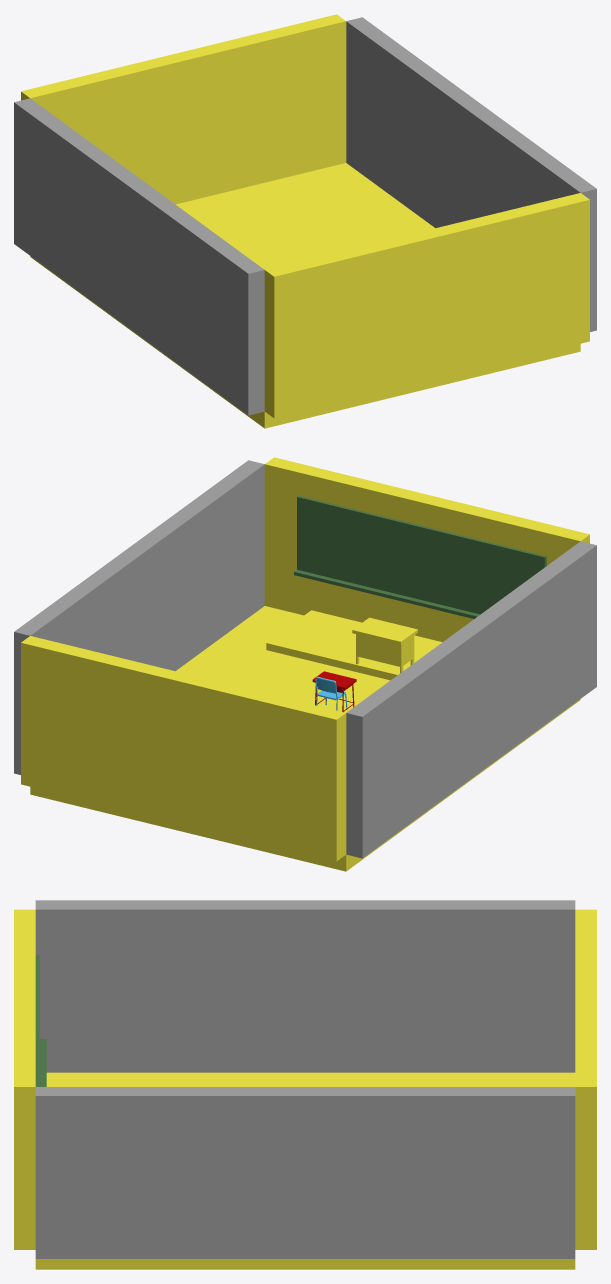
The model's file is gamejam.kyositu.fbx.
3 renders of one model, top to bottom at view 1: azimuth 30°, elevation 25°; view 2: azimuth 150°, elevation 25°; view 3: azimuth 270°, elevation 25°, orthographic. The views are drawn at different scales.
Visible parts, largest first — view 1: pCube25, pCube24, pCube28, pCube27, yuka; view 2: pCube28, pCube24, pCube27, pCube25, pCube11, yuka, kyodan, kyotaku, pCube26; view 3: pCube27, pCube24, yuka, pCube25, pCube28, pCube11.
Boxes of the visible parts, <box> form: pCube25: <box>264,193,589,418</box>; pCube24: <box>14,98,264,415</box>; pCube28: <box>21,14,346,204</box>; pCube27: <box>346,17,596,331</box>; yuka: <box>30,163,580,428</box>; pCube28: <box>21,636,346,861</box>; pCube24: <box>346,541,596,858</box>; pCube27: <box>14,460,264,774</box>; pCube25: <box>264,457,589,642</box>; pCube11: <box>297,496,546,614</box>; yuka: <box>30,606,580,871</box>; kyodan: <box>266,610,442,680</box>; kyotaku: <box>352,617,417,673</box>; pCube26: <box>294,569,480,618</box>; pCube27: <box>35,1087,575,1258</box>; pCube24: <box>35,900,575,1072</box>; yuka: <box>35,1072,575,1269</box>; pCube25: <box>14,909,35,1249</box>; pCube28: <box>575,909,596,1249</box>; pCube11: <box>35,955,39,1086</box>.
Size of the model in its own units: 772 by 336 by 972.
